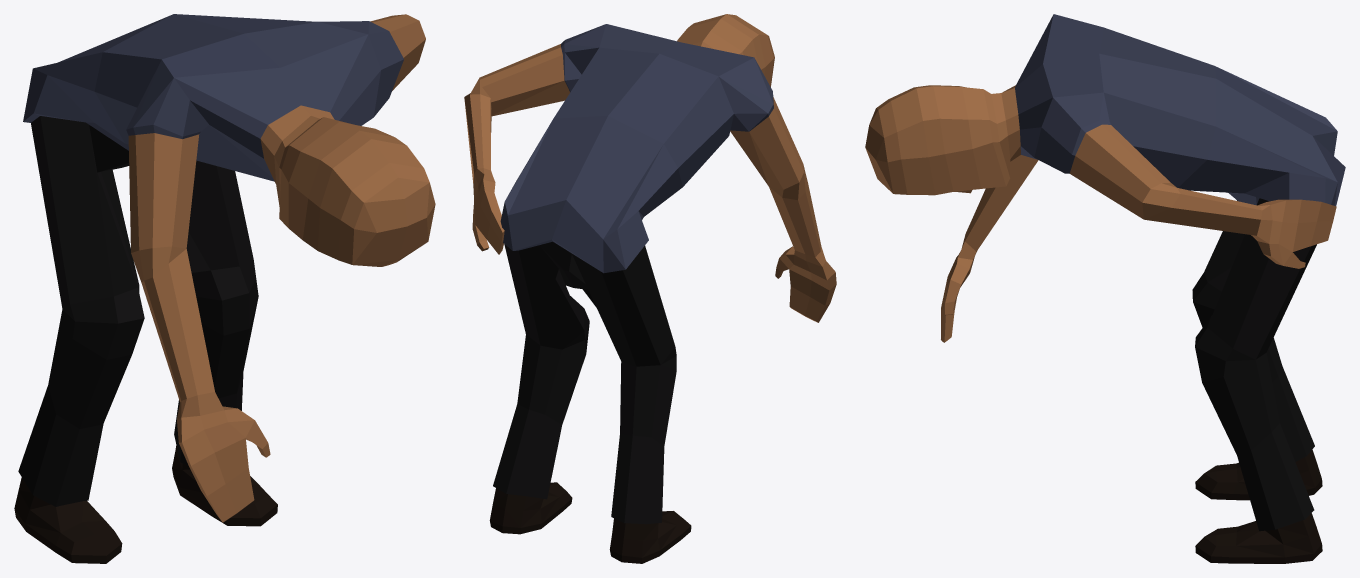
Rendered from Male_PickingUp.obj.
The picture shows the model from 3 angles, left to right: view 1: azimuth 30°, elevation 25°; view 2: azimuth 150°, elevation 25°; view 3: azimuth 270°, elevation 25°; orthographic projection. The views are drawn at different scales.
Visible parts, largest first — view 1: Male_PickingUp_Human_CylinderMesh.001; view 2: Male_PickingUp_Human_CylinderMesh.001; view 3: Male_PickingUp_Human_CylinderMesh.001.
Part boxes in pixels (bbox=[...]): Male_PickingUp_Human_CylinderMesh.001: bbox=[14, 14, 435, 563]; Male_PickingUp_Human_CylinderMesh.001: bbox=[464, 14, 836, 563]; Male_PickingUp_Human_CylinderMesh.001: bbox=[865, 14, 1345, 563].
Bounding box in the file's own units: 1.59 × 2.33 × 2.16.
